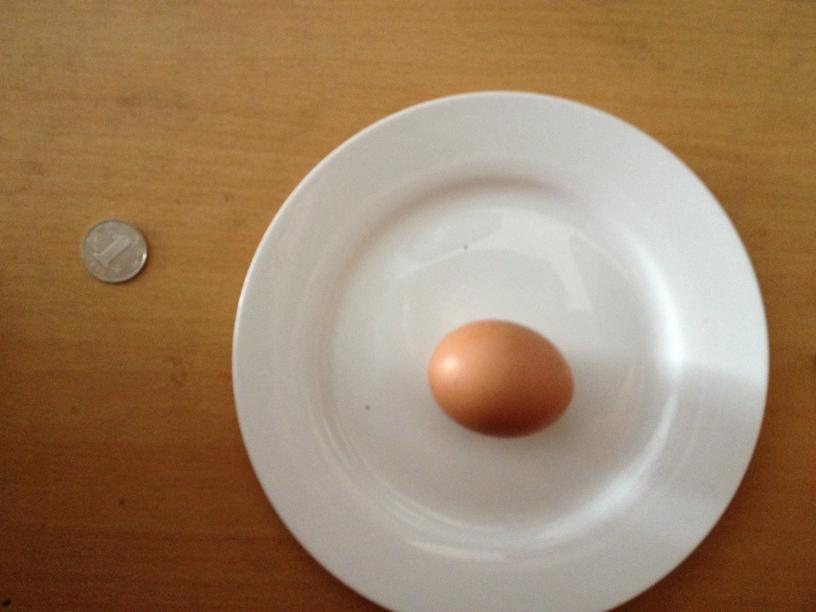coin: (80, 219, 149, 282)
egg: (431, 320, 571, 437)
